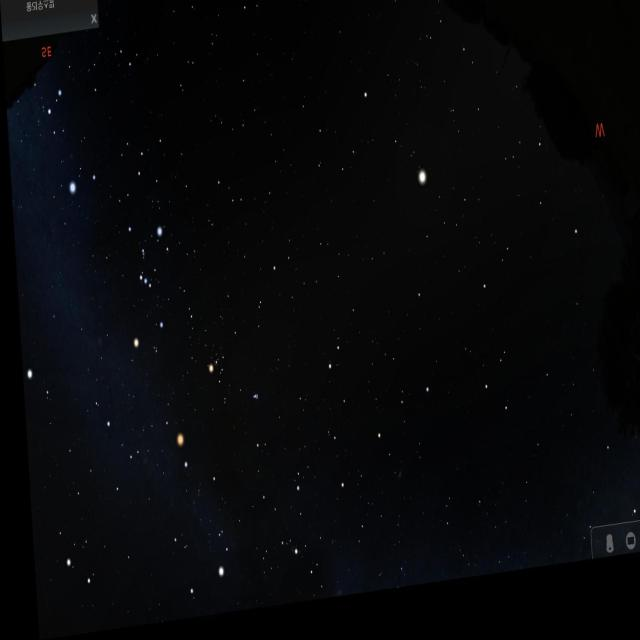canis_major: (42, 78, 101, 212)
canis_minor: (19, 348, 52, 424)
gemini: (46, 439, 150, 604)
orion: (110, 208, 173, 360)
pleiades: (239, 389, 259, 417)
taurus: (195, 334, 265, 440)
